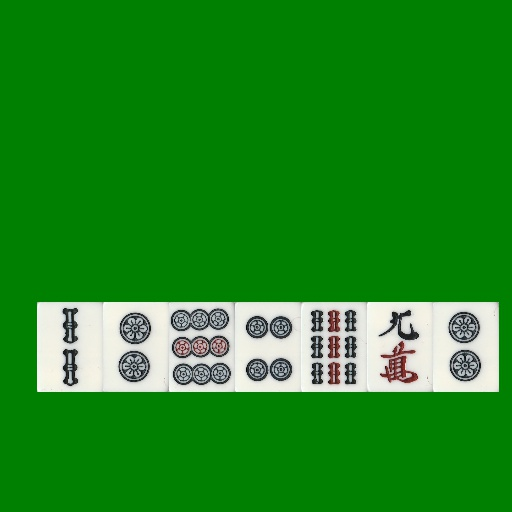2p: (103, 302, 169, 392), (433, 302, 499, 392)
2s: (37, 302, 103, 392)
4p: (235, 302, 301, 392)
9m: (367, 302, 433, 392)
9p: (169, 302, 235, 392)
9s: (301, 302, 367, 392)
